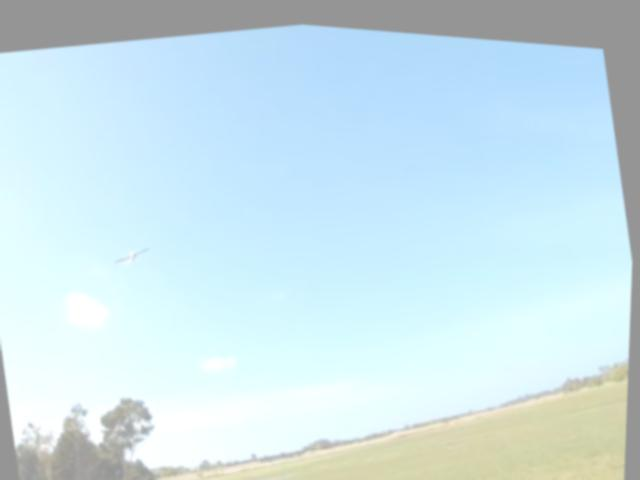uav: (109, 232, 158, 275)
